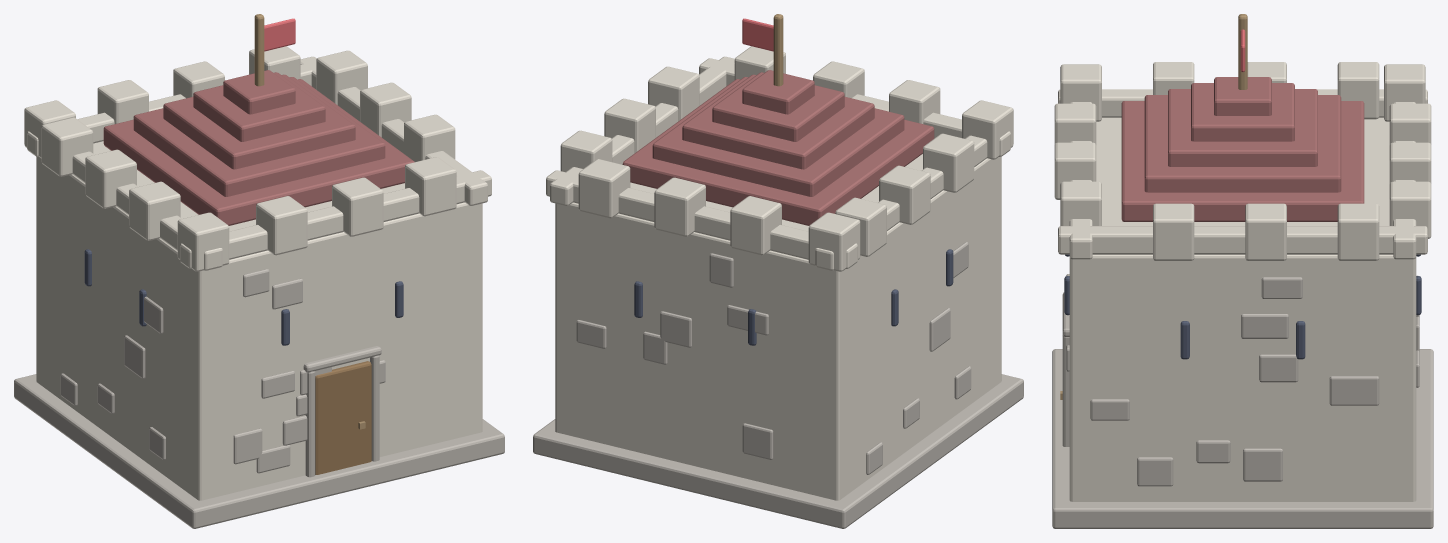
Rendered from castle.glb.
The picture shows the model from 3 angles, left to right: view 1: azimuth 30°, elevation 25°; view 2: azimuth 150°, elevation 25°; view 3: azimuth 270°, elevation 25°; orthographic projection. The views are drawn at different scales.
Visible parts, largest first — view 1: Keep_Body, Foundation, Roof_1, Roof_2, Roof_3, Door, Roof_4, Parapet_N, Parapet_E, Crenel_2, Crenel_1, Crenel_3 (+26 smaller); view 2: Keep_Body, Foundation, Roof_1, Roof_2, Roof_3, Roof_4, Parapet_S, Parapet_E, Crenel_7, Crenel_8, Crenel_9, Crenel_13 (+22 smaller); view 3: Keep_Body, Foundation, Roof_1, Roof_2, Roof_3, Parapet_E, Roof_4, Crenel_6, Crenel_5, Crenel_4, Roof_5, Crenel_11 (+23 smaller).
Part boxes in pixels (left/top/right/bottom): Keep_Body: left=36, top=141, right=482, bottom=500; Foundation: left=14, top=374, right=504, bottom=528; Roof_1: left=103, top=79, right=414, bottom=225; Roof_2: left=133, top=77, right=385, bottom=196; Roof_3: left=163, top=74, right=355, bottom=169; Door: left=315, top=361, right=371, bottom=474; Roof_4: left=193, top=72, right=325, bottom=141; Parapet_N: left=180, top=170, right=491, bottom=268; Parapet_E: left=300, top=56, right=487, bottom=205; Crenel_2: left=332, top=177, right=383, bottom=236; Crenel_1: left=256, top=196, right=307, bottom=255; Crenel_3: left=405, top=157, right=456, bottom=216; Keep_Body: left=555, top=154, right=1001, bottom=500; Foundation: left=533, top=374, right=1023, bottom=528; Roof_1: left=622, top=79, right=934, bottom=225; Roof_2: left=652, top=77, right=904, bottom=196; Roof_3: left=682, top=74, right=874, bottom=169; Roof_4: left=712, top=72, right=844, bottom=141; Parapet_S: left=546, top=170, right=857, bottom=268; Parapet_E: left=550, top=56, right=734, bottom=205; Crenel_7: left=578, top=159, right=630, bottom=218; Crenel_8: left=654, top=177, right=705, bottom=236; Crenel_9: left=730, top=196, right=781, bottom=255; Crenel_13: left=923, top=133, right=974, bottom=192; Keep_Body: left=1069, top=117, right=1416, bottom=501; Foundation: left=1052, top=349, right=1433, bottom=528; Roof_1: left=1121, top=101, right=1364, bottom=221; Roof_2: left=1144, top=95, right=1341, bottom=192; Roof_3: left=1168, top=89, right=1317, bottom=166; Parapet_E: left=1058, top=226, right=1427, bottom=254; Roof_4: left=1191, top=83, right=1294, bottom=141; Crenel_6: left=1337, top=203, right=1379, bottom=260; Crenel_5: left=1245, top=203, right=1286, bottom=260; Crenel_4: left=1153, top=203, right=1194, bottom=260; Roof_5: left=1214, top=77, right=1271, bottom=115; Crenel_11: left=1337, top=62, right=1379, bottom=119.
Bounding box in the file's own units: 3.3 × 4.15 × 3.3.
